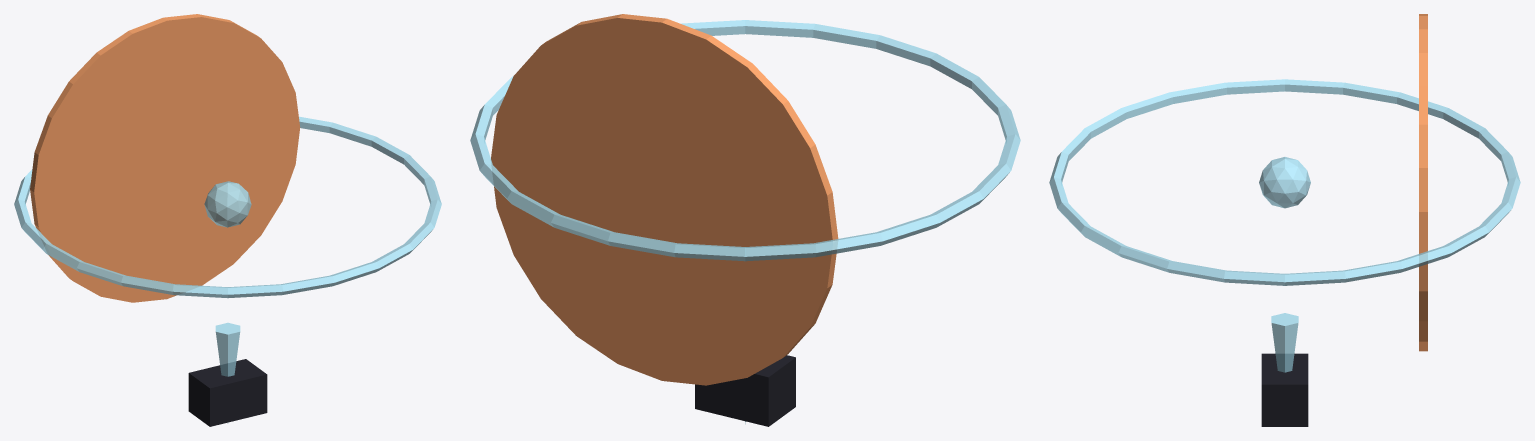
The model's file is 05_combat_start_camera_rig.glb.
3 views of the same model, side by side, from view 1: azimuth 30°, elevation 25°; view 2: azimuth 150°, elevation 25°; view 3: azimuth 270°, elevation 25° (orthographic). The views are drawn at different scales.
Parts seen in each view (by area): view 1: combat_start_trigger_disc, camera_orbit_track, camera_proxy, target_focus_point, look_vector; view 2: combat_start_trigger_disc, camera_orbit_track, camera_proxy; view 3: camera_orbit_track, camera_proxy, combat_start_trigger_disc, target_focus_point, look_vector.
Boxes of the visible parts, left/top/right/bottom form: combat_start_trigger_disc: left=30, top=14, right=300, bottom=302; camera_orbit_track: left=14, top=116, right=441, bottom=298; camera_proxy: left=188, top=359, right=267, bottom=426; target_focus_point: left=204, top=181, right=251, bottom=227; look_vector: left=215, top=322, right=240, bottom=423; combat_start_trigger_disc: left=491, top=14, right=838, bottom=385; camera_orbit_track: left=470, top=20, right=1020, bottom=261; camera_proxy: left=695, top=355, right=795, bottom=426; camera_orbit_track: left=1049, top=79, right=1520, bottom=285; camera_proxy: left=1261, top=353, right=1308, bottom=426; combat_start_trigger_disc: left=1419, top=14, right=1427, bottom=351; target_focus_point: left=1259, top=157, right=1310, bottom=208; look_vector: left=1271, top=313, right=1298, bottom=372.
Size of the model in its own units: 1.81 by 1.68 by 1.81.
